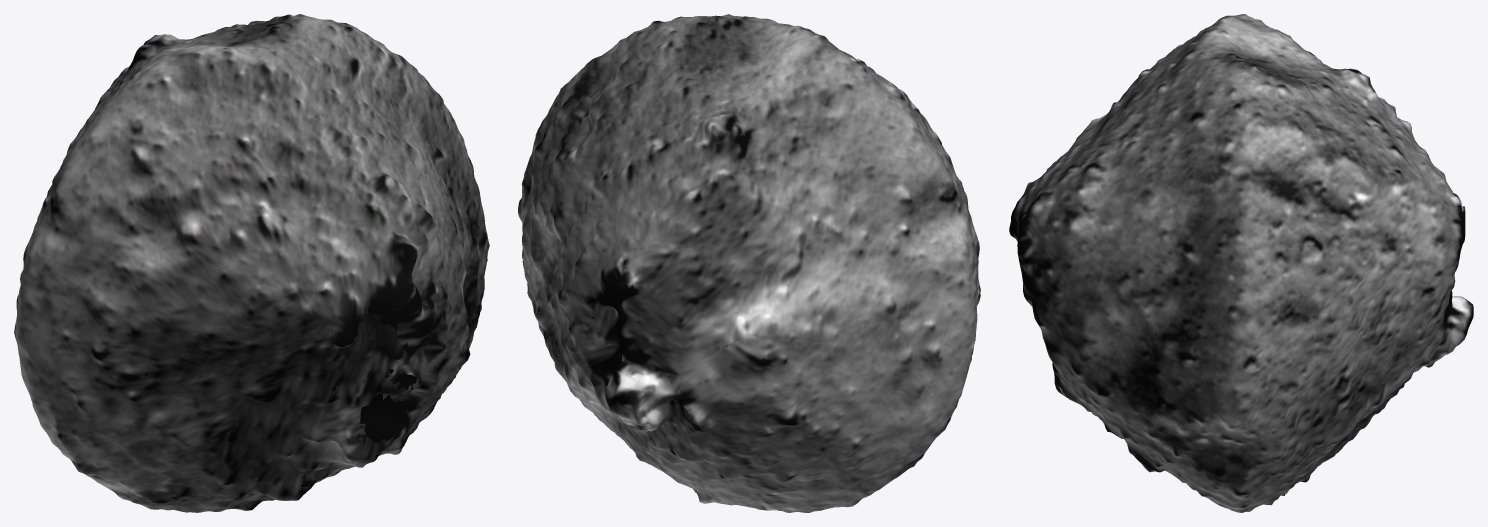
The model's file is Ryugu.obj.
3 views of the same model, side by side, from view 1: azimuth 30°, elevation 25°; view 2: azimuth 150°, elevation 25°; view 3: azimuth 270°, elevation 25° (orthographic). The views are drawn at different scales.
Parts seen in each view (by area): view 1: node_id4_mesh_id5; view 2: node_id4_mesh_id5; view 3: node_id4_mesh_id5.
Part boxes in pixels (x1,y1,x2,y2): node_id4_mesh_id5: (14,14,489,512); node_id4_mesh_id5: (518,14,980,512); node_id4_mesh_id5: (1009,14,1473,512).
Size of the model in its own units: 5.12 by 5.12 by 4.83.
Materials: 1 (1 with a texture image).
